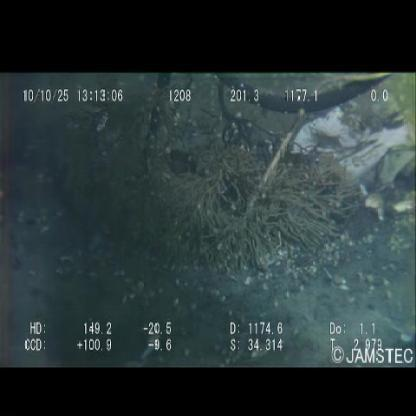Rác: (297, 90, 415, 212)
